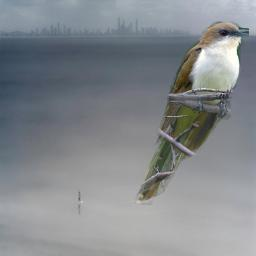Cuckoo: (134, 19, 249, 205)
